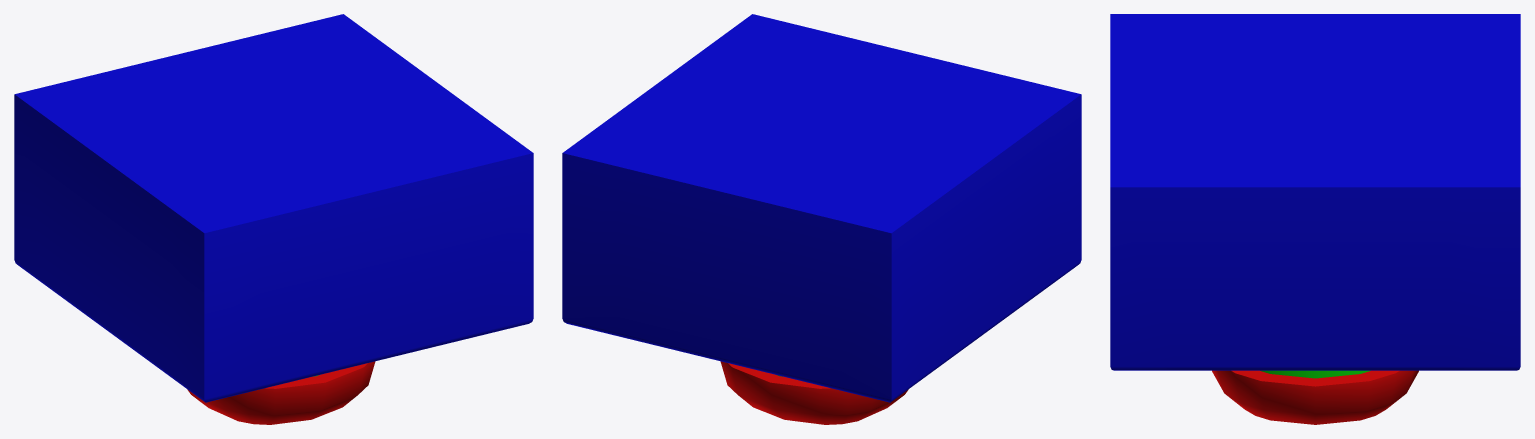
File: button.glb
3 renders of one model, left to right at view 1: azimuth 30°, elevation 25°; view 2: azimuth 150°, elevation 25°; view 3: azimuth 270°, elevation 25°, orthographic. The views are drawn at different scales.
Parts seen in each view (by area): view 1: Stop Button; view 2: Stop Button; view 3: Stop Button.
Boxes of the visible parts, box(x1,y1,x2,y2) form: Stop Button: box(14, 14, 533, 424); Stop Button: box(562, 14, 1081, 424); Stop Button: box(1110, 14, 1520, 424).
Bounding box in the file's own units: 2 × 1.6 × 2.
